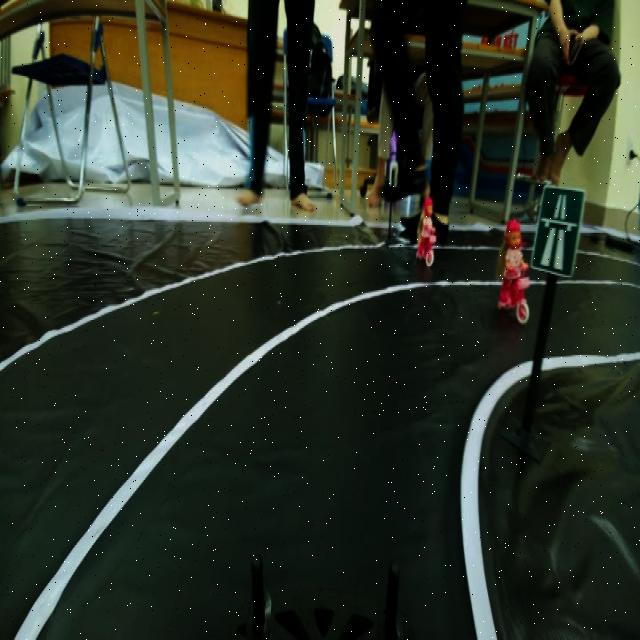highway_entry: (532, 174, 584, 287)
pedestrian: (492, 212, 534, 317)
